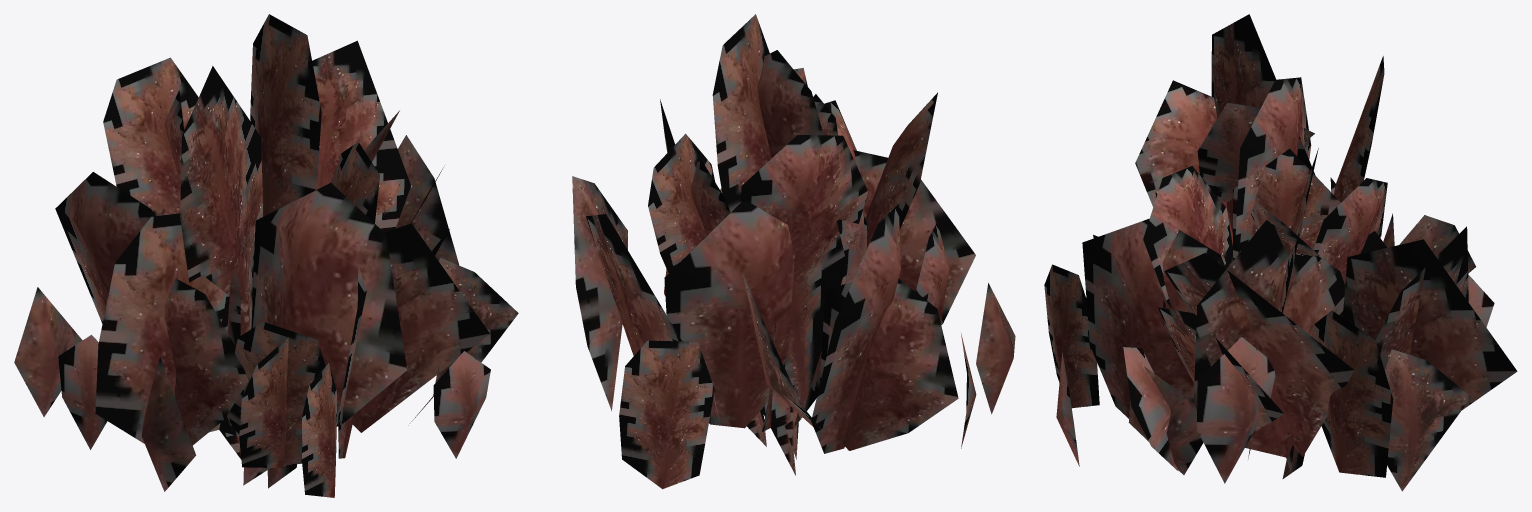
The model's file is RedAlgae02-transformed.glb.
3 views of the same model, side by side, from view 1: azimuth 30°, elevation 25°; view 2: azimuth 150°, elevation 25°; view 3: azimuth 270°, elevation 25° (orthographic). The views are drawn at different scales.
Visible parts, largest first — view 1: RedAlgae02; view 2: RedAlgae02; view 3: RedAlgae02.
Part boxes in pixels (x1,y1,x2,y2): RedAlgae02: (14,14,518,497); RedAlgae02: (572,14,1015,489); RedAlgae02: (1044,14,1517,491).
Bounding box in the file's own units: 0.6975 × 0.7574 × 0.7224.
1 material, 1 textured.
